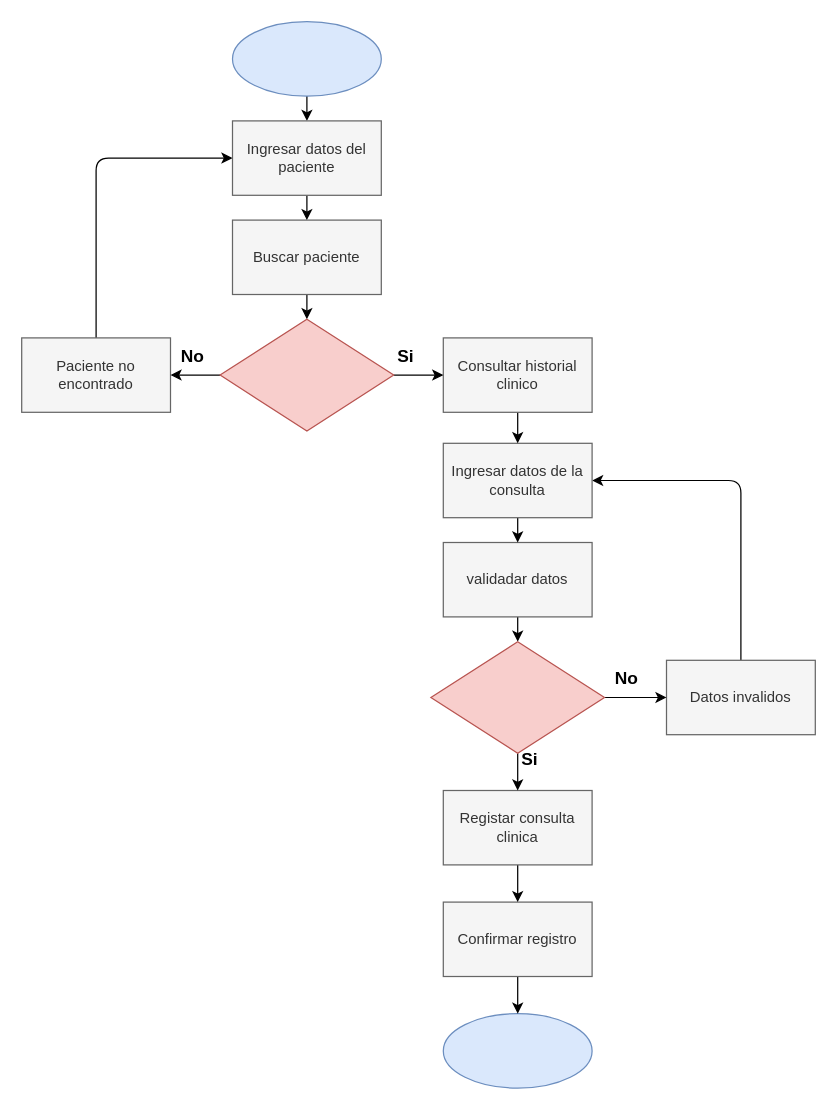
Image size: 837x1110. Some labels were removed from this diagram. Each missing label, with the centre of its shape:
Fin: the point at 517,1050
Inicio: the point at 306,58
¿Datos válidos?: the point at 517,696
¿Paciente existe?: the point at 306,374
